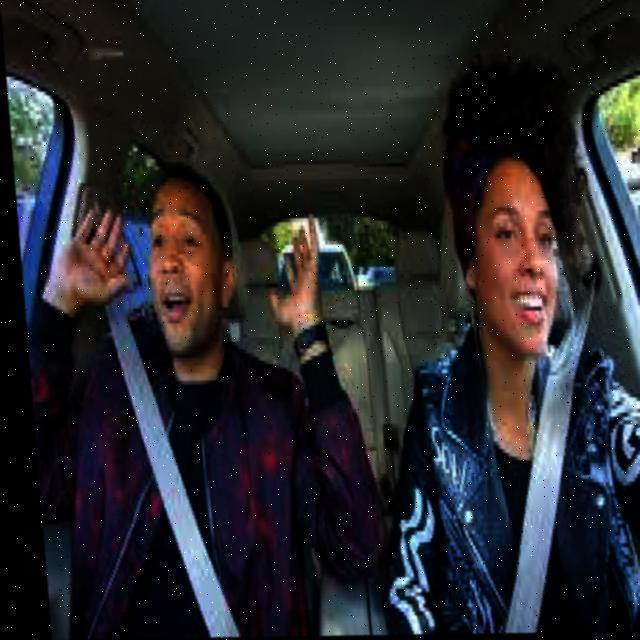seatbelt: (72, 334, 290, 640), (421, 336, 621, 636)
